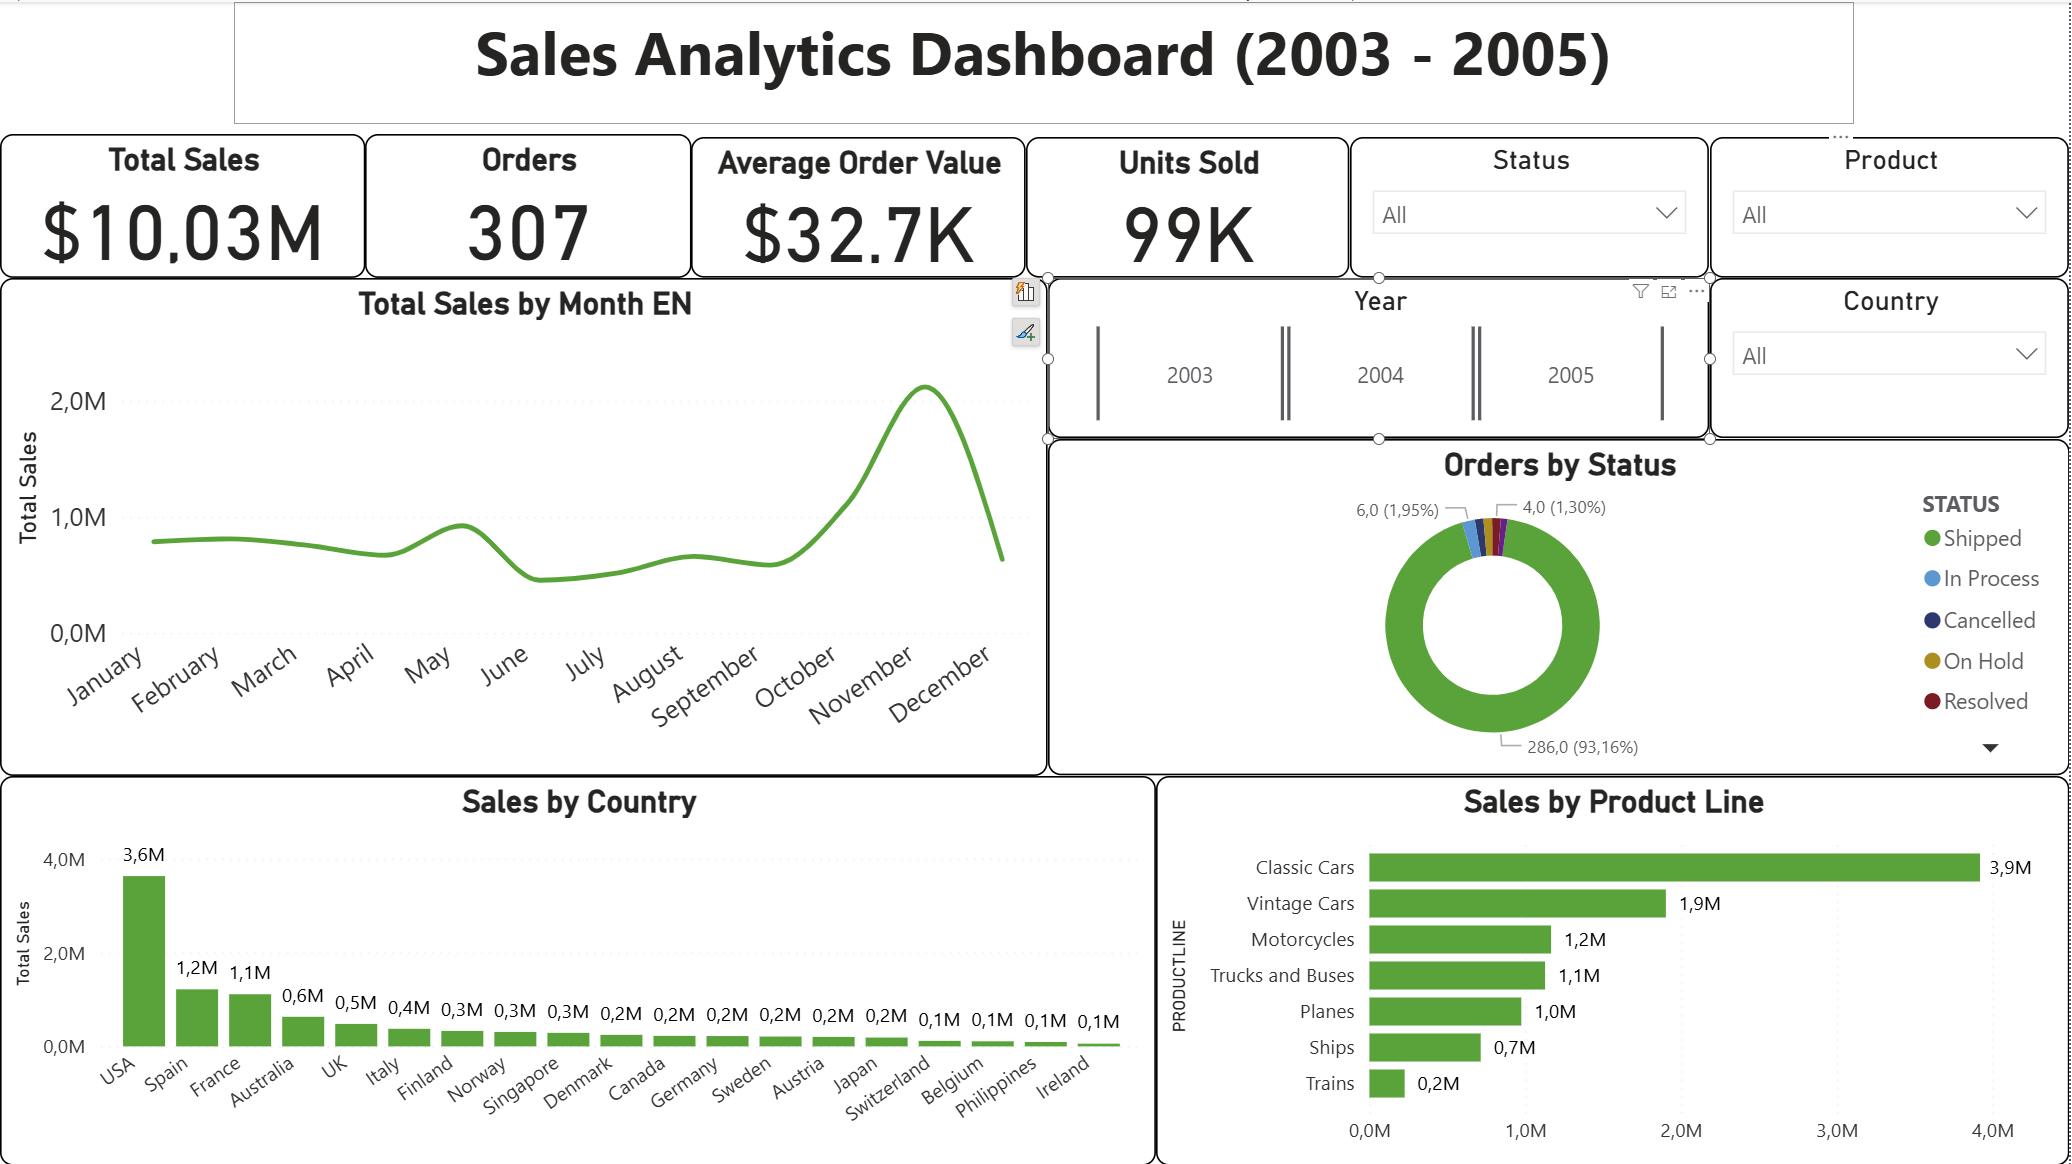

The page's visual inventory and layout, read from the dashboard file:
{"tool":"powerbi","page":{"name":"Strona 1","canvas":[1280,720],"ordinal":0},"visuals":[{"type":"card","title":"Total Sales","fields":{"Values":["SALES.Total Sales"]},"box":[0,81.8,225.8,89.1],"z":0},{"type":"card","title":"Orders","fields":{"Values":["SALES.Number of Orders"]},"box":[225.8,81.8,201.7,89.1],"z":1000},{"type":"card","title":"Average Order Value","fields":{"Values":["SALES.Average Order Value"]},"box":[427.6,83.8,207.1,87.1],"z":2000},{"type":"card","title":"Units Sold","fields":{"Values":["SALES.Total Quantity"]},"box":[634.6,83.8,200.4,87.1],"z":3000},{"type":"lineChart","fields":{"Category":["SALES.ORDERDATE.Odmiana.Hierarchia dat.Rok","SALES.ORDERDATE.Odmiana.Hierarchia dat.Kwartał","SALES.ORDERDATE.Odmiana.Hierarchia dat.Miesiąc","SALES.ORDERDATE.Odmiana.Hierarchia dat.Dzień"],"Y":["SALES.Total Sales"]},"box":[0,170.9,648,307.6],"z":4000},{"type":"clusteredBarChart","title":"Sales by Product Line","fields":{"Category":["SALES.PRODUCTLINE"],"Y":["SALES.Total Sales"]},"box":[715.1,478.5,564.9,241.3],"z":5000},{"type":"clusteredColumnChart","title":" Sales by Country","fields":{"Category":["SALES.COUNTRY"],"Y":["SALES.Total Sales"]},"box":[0,478.5,715.1,241.3],"z":6000},{"type":"donutChart","title":"Orders by Status","fields":{"Y":["SALES.Number of Orders"],"Category":["SALES.STATUS"]},"box":[648,270.1,632,208.4],"z":7000},{"type":"slicer","title":"Year","fields":{"Values":["SALES.YEAR_ID"]},"box":[648,170.9,409.5,99.2],"z":8000},{"type":"slicer","title":"Status","fields":{"Values":["SALES.STATUS"]},"box":[835,83.8,222.5,87.1],"z":9000},{"type":"slicer","title":"Product","fields":{"Values":["SALES.PRODUCTLINE"]},"box":[1057.5,83.8,222.5,87.1],"z":10000},{"type":"slicer","title":"Country","fields":{"Values":["SALES.COUNTRY"]},"box":[1057.5,170.9,222.5,99.2],"z":11000},{"type":"textbox","box":[144.8,0,1001.9,75.7],"z":12000}]}

Visuals, with their boxes in screenshot pixels (x1, y1, x2, y2), scaled from the page's 1280x720 canvas onto the 2072x1164 screenshot:
"Total Sales" card: 0/132/366/276
"Orders" card: 366/132/692/276
"Average Order Value" card: 692/135/1027/276
"Units Sold" card: 1027/135/1352/276
lineChart - SALES.ORDERDATE.Odmiana.Hierarchia dat.Rok x SALES.ORDERDATE.Odmiana.Hierarchia dat.Kwartał: 0/276/1049/774
"Sales by Product Line" clusteredBarChart: 1158/774/2071/1163
" Sales by Country" clusteredColumnChart: 0/774/1158/1163
"Orders by Status" donutChart: 1049/437/2071/774
"Year" slicer: 1049/276/1712/437
"Status" slicer: 1352/135/1712/276
"Product" slicer: 1712/135/2071/276
"Country" slicer: 1712/276/2071/437
textbox: 234/0/1856/122
